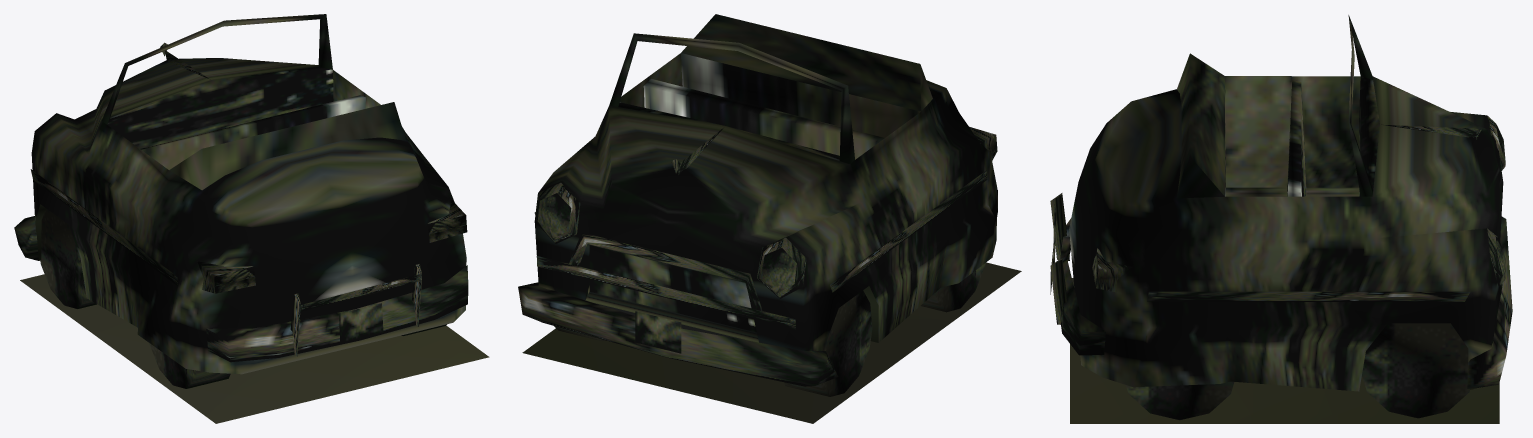
File: slime2.ico.obj
3 renders of one model, left to right at view 1: azimuth 30°, elevation 25°; view 2: azimuth 150°, elevation 25°; view 3: azimuth 270°, elevation 25°, orthographic. The views are drawn at different scales.
Size of the model in its own units: 3.7 by 3.31 by 4.66.
